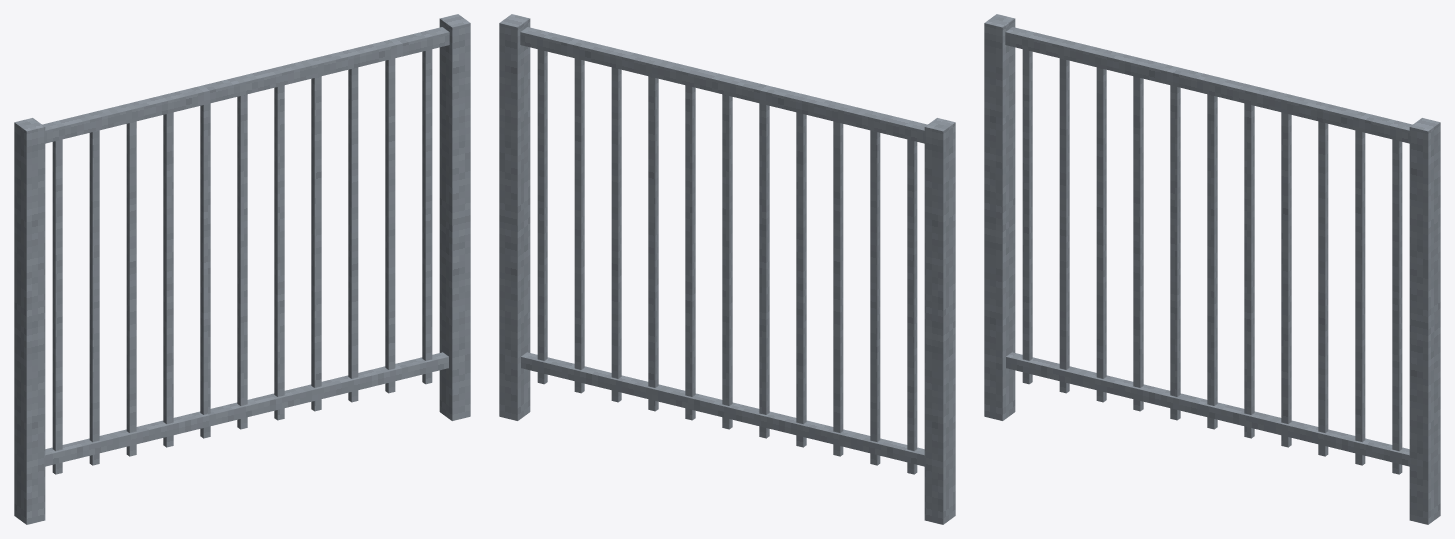
File: level_blockout_coastal_security_fence.glb
3 renders of one model, left to right at view 1: azimuth 30°, elevation 25°; view 2: azimuth 150°, elevation 25°; view 3: azimuth 330°, elevation 25°, orthographic.
Visible parts, largest first — view 1: level_blockout_coastal_security_fence; view 2: level_blockout_coastal_security_fence; view 3: level_blockout_coastal_security_fence.
Boxes of the visible parts, box(x1,y1,x2,y2) form: level_blockout_coastal_security_fence: box(14, 14, 470, 524); level_blockout_coastal_security_fence: box(499, 14, 955, 524); level_blockout_coastal_security_fence: box(984, 14, 1440, 524).
Size of the model in its own units: 2.88 by 2.44 by 0.14.
Materials: 1 (1 with a texture image).
